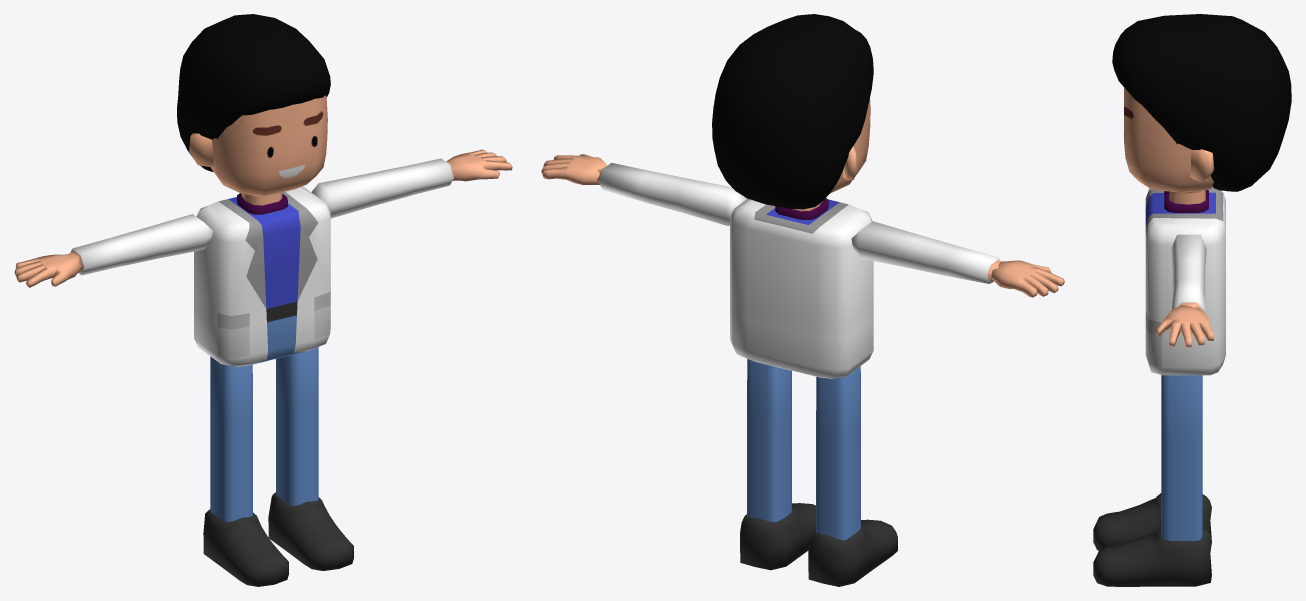
The model's file is NPC_White01_BlackHair05.gltf.
The picture shows the model from 3 angles, left to right: view 1: azimuth 30°, elevation 25°; view 2: azimuth 150°, elevation 25°; view 3: azimuth 270°, elevation 25°; orthographic projection. The views are drawn at different scales.
Visible parts, largest first — view 1: NPC_Corpo_White1_BlackHair.005; view 2: NPC_Corpo_White1_BlackHair.005; view 3: NPC_Corpo_White1_BlackHair.005.
Part boxes in pixels (box(x1,y1,x2,y2)): NPC_Corpo_White1_BlackHair.005: box(14, 14, 512, 586); NPC_Corpo_White1_BlackHair.005: box(541, 14, 1064, 586); NPC_Corpo_White1_BlackHair.005: box(1093, 14, 1291, 586).
Bounding box in the file's own units: 2.31 × 2.3 × 0.7742.
1 material, 1 textured.
